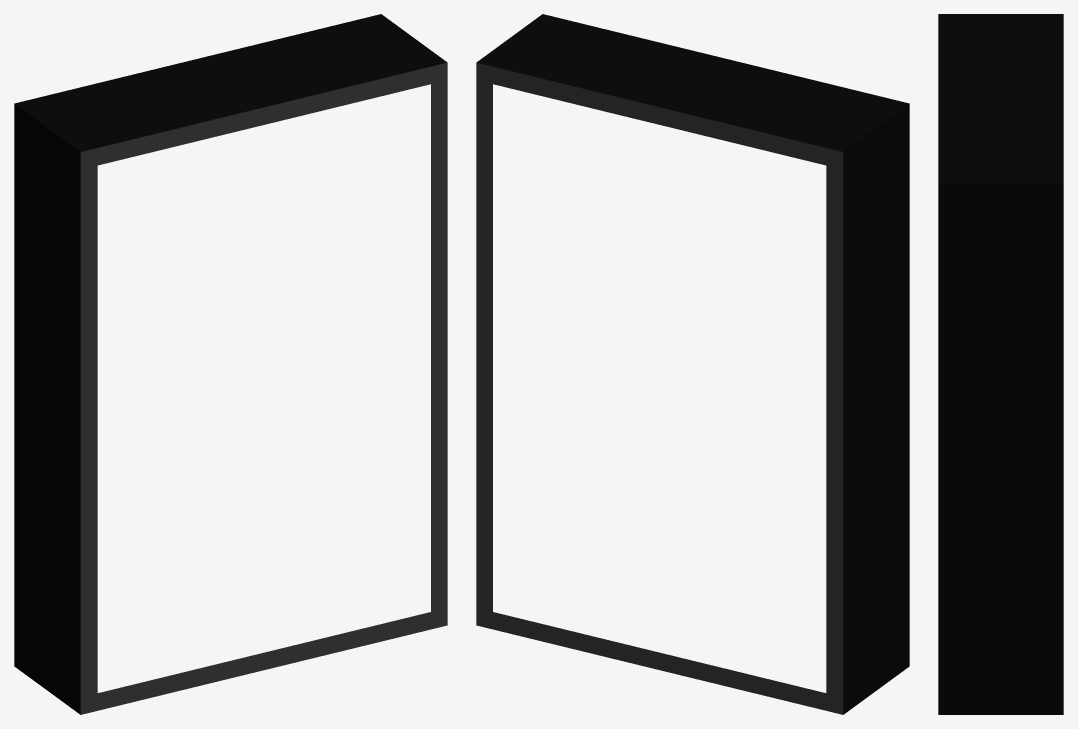
File: b592aeff-1241-4d71-bb7f-669318160587.glb
3 renders of one model, left to right at view 1: azimuth 30°, elevation 25°; view 2: azimuth 150°, elevation 25°; view 3: azimuth 270°, elevation 25°, orthographic. The views are drawn at different scales.
Parts seen in each view (by area): view 1: o_AlphaProta_Black; view 2: o_AlphaProta_Black; view 3: o_AlphaProta_Black.
Part boxes in pixels (x1=…): o_AlphaProta_Black: x1=14, y1=14, x2=447, y2=714; o_AlphaProta_Black: x1=476, y1=14, x2=909, y2=714; o_AlphaProta_Black: x1=938, y1=14, x2=1063, y2=714.
Size of what is drawn, in the model's own units: 0.1436 by 0.2105 by 0.045.
2 materials, 2 textured.
